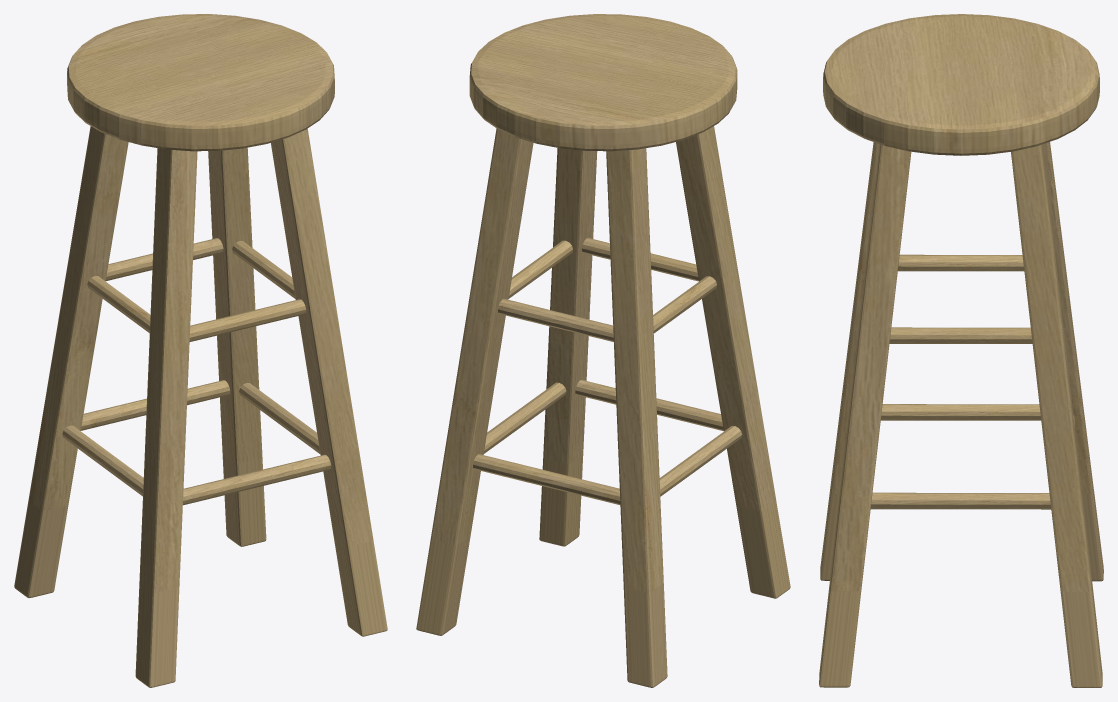
Rendered from sweethome3d-blendswap-cc-0-stool-167.glb.
The picture shows the model from 3 angles, left to right: view 1: azimuth 30°, elevation 25°; view 2: azimuth 150°, elevation 25°; view 3: azimuth 270°, elevation 25°; orthographic projection. The views are drawn at different scales.
Visible parts, largest first — view 1: Cube.028_Cube.029; view 2: Cube.028_Cube.029; view 3: Cube.028_Cube.029.
Boxes of the visible parts, x1,y1,x2,y2 form: Cube.028_Cube.029: (14, 14, 387, 687); Cube.028_Cube.029: (416, 14, 790, 687); Cube.028_Cube.029: (819, 14, 1103, 687).
Size of the model in its own units: 36.08 by 78 by 36.08.
Materials: 1 (1 with a texture image).
